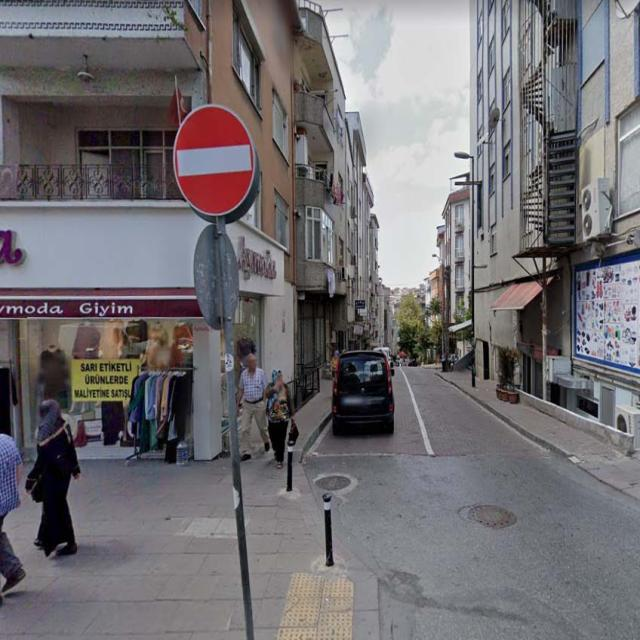girisyok: (173, 104, 254, 216)
